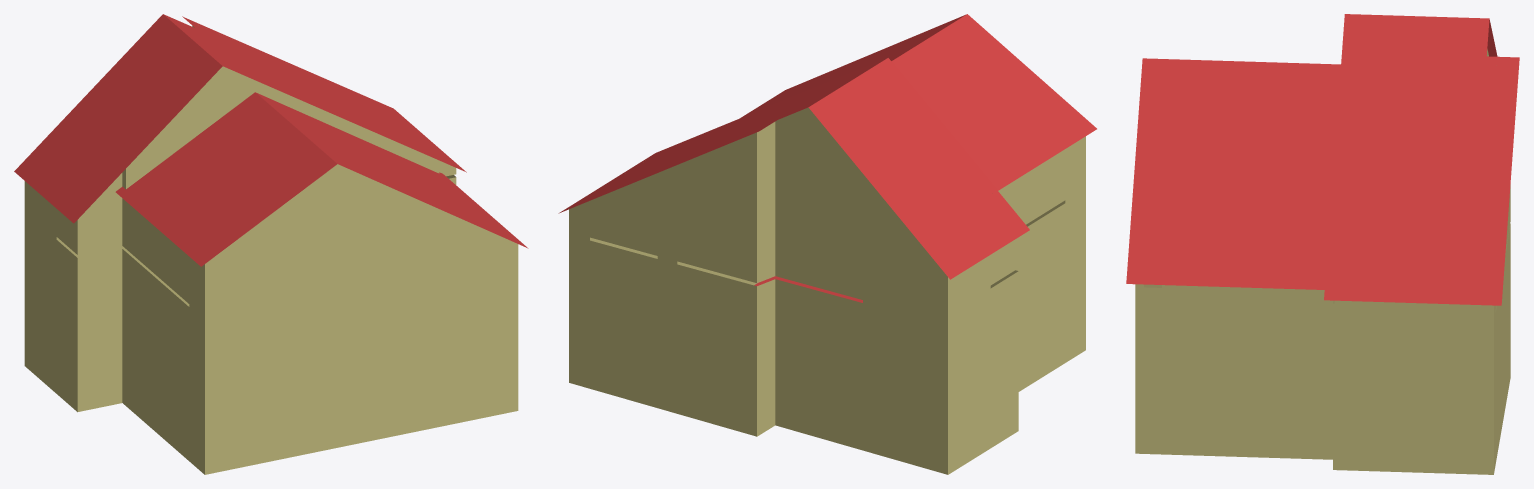
3 renders of one model, left to right at view 1: azimuth 30°, elevation 25°; view 2: azimuth 150°, elevation 25°; view 3: azimuth 270°, elevation 25°, orthographic. The views are drawn at different scales.
Size of the model in its own units: 14.05 by 11.67 by 11.08.
